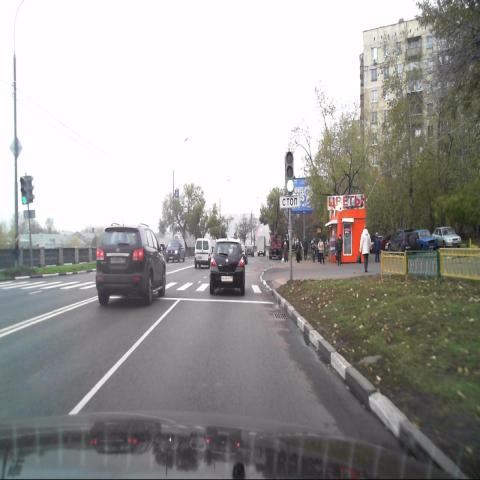6_16: (279, 196, 300, 208)
